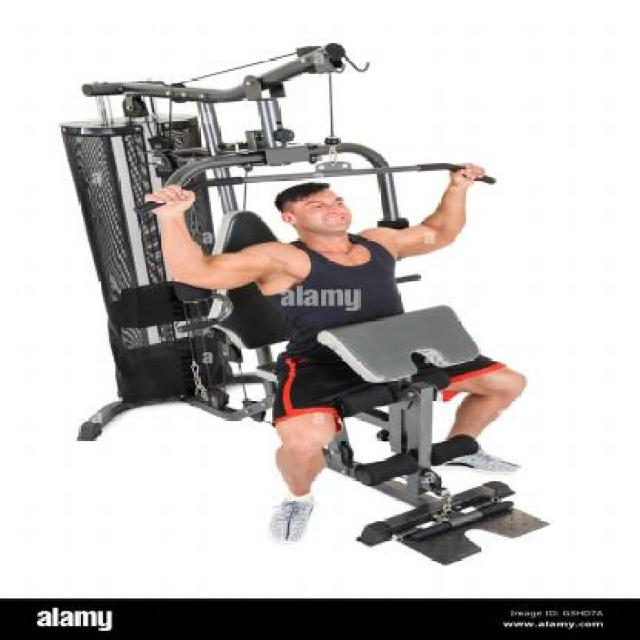Lat Pull Down: (37, 34, 620, 574)
